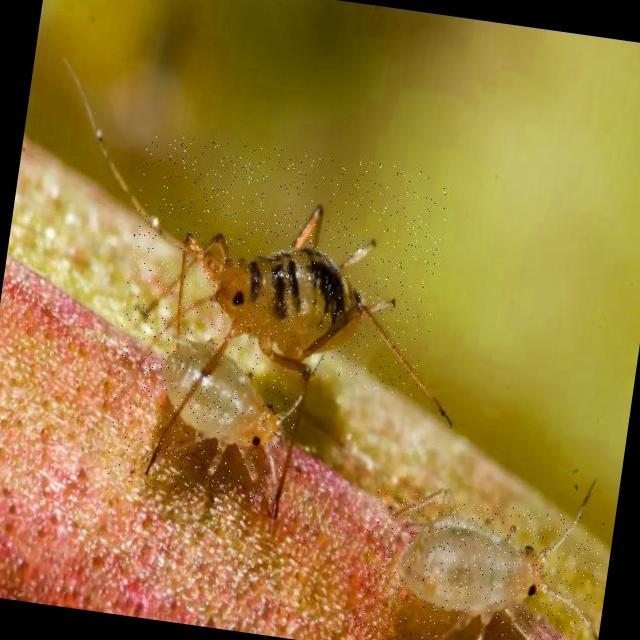aphid: (117, 130, 451, 396), (101, 310, 306, 504), (351, 486, 606, 640)
